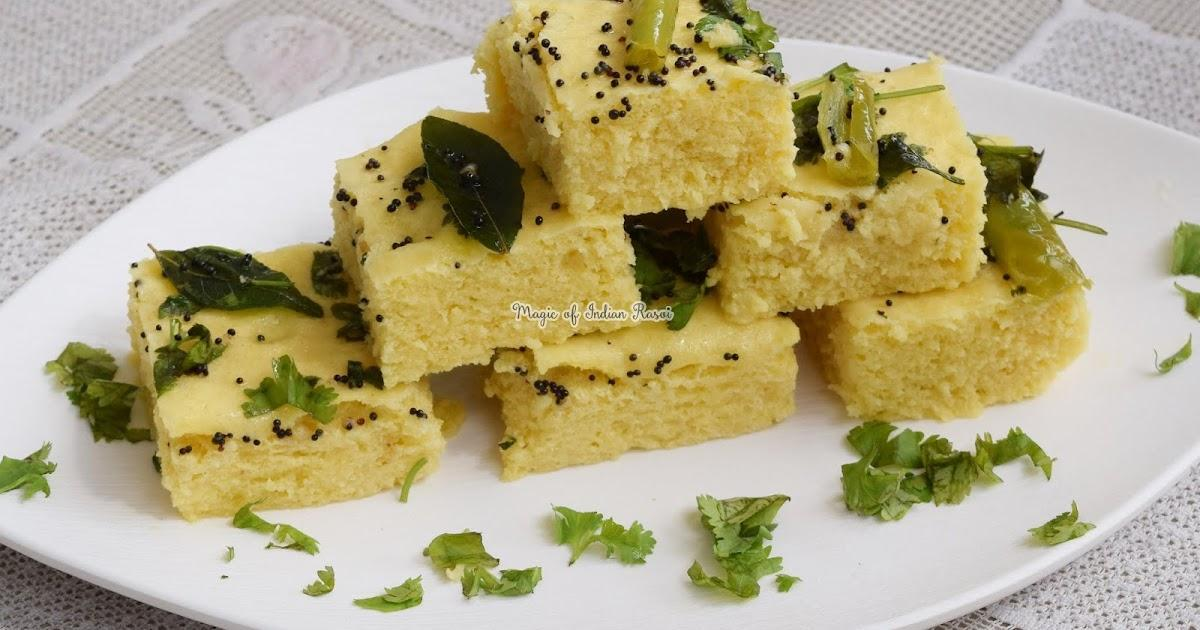dhokla: (352, 1, 1077, 466), (127, 244, 462, 508)
